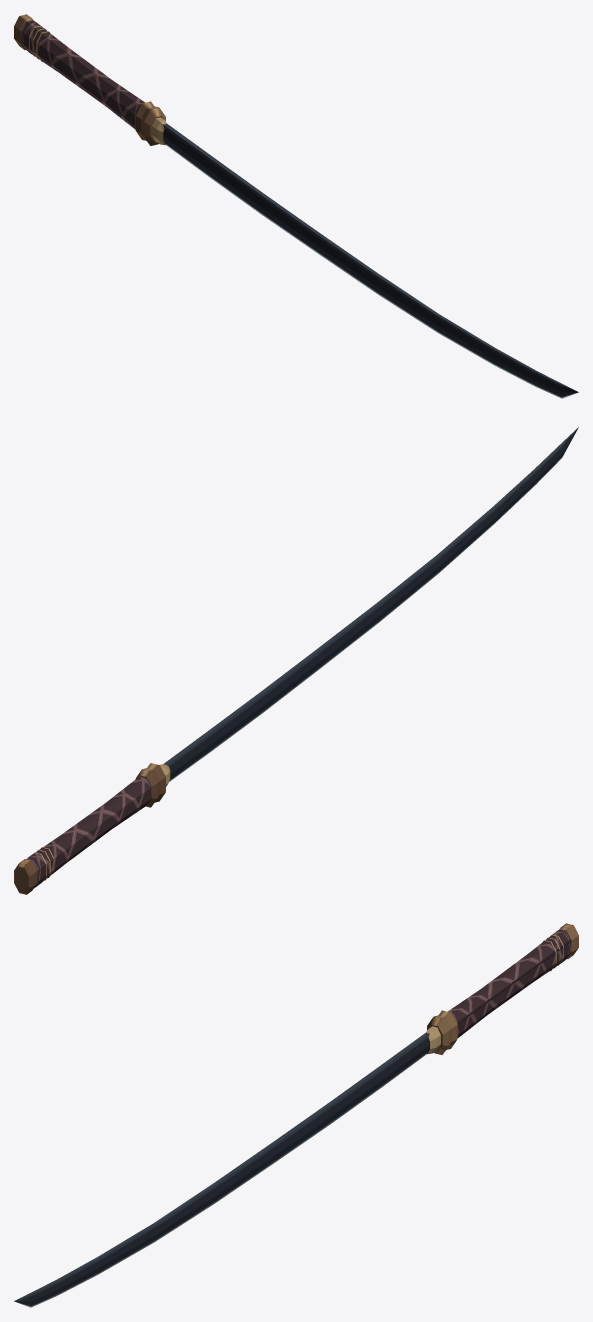
The model's file is kit_sword_v1.fbx.
3 views of the same model, one above another, from view 1: azimuth 30°, elevation 25°; view 2: azimuth 150°, elevation 25°; view 3: azimuth 330°, elevation 25° (orthographic).
Parts seen in each view (by area): view 1: SM_KitSword_V1; view 2: SM_KitSword_V1; view 3: SM_KitSword_V1.
Part boxes in pixels (<box>): SM_KitSword_V1: <box>14,14,578,398</box>; SM_KitSword_V1: <box>14,427,578,894</box>; SM_KitSword_V1: <box>14,923,578,1307</box>.
Size of the model in its own units: 0.0333 by 0.093 by 1.49.
Materials: 1 (1 with a texture image).
